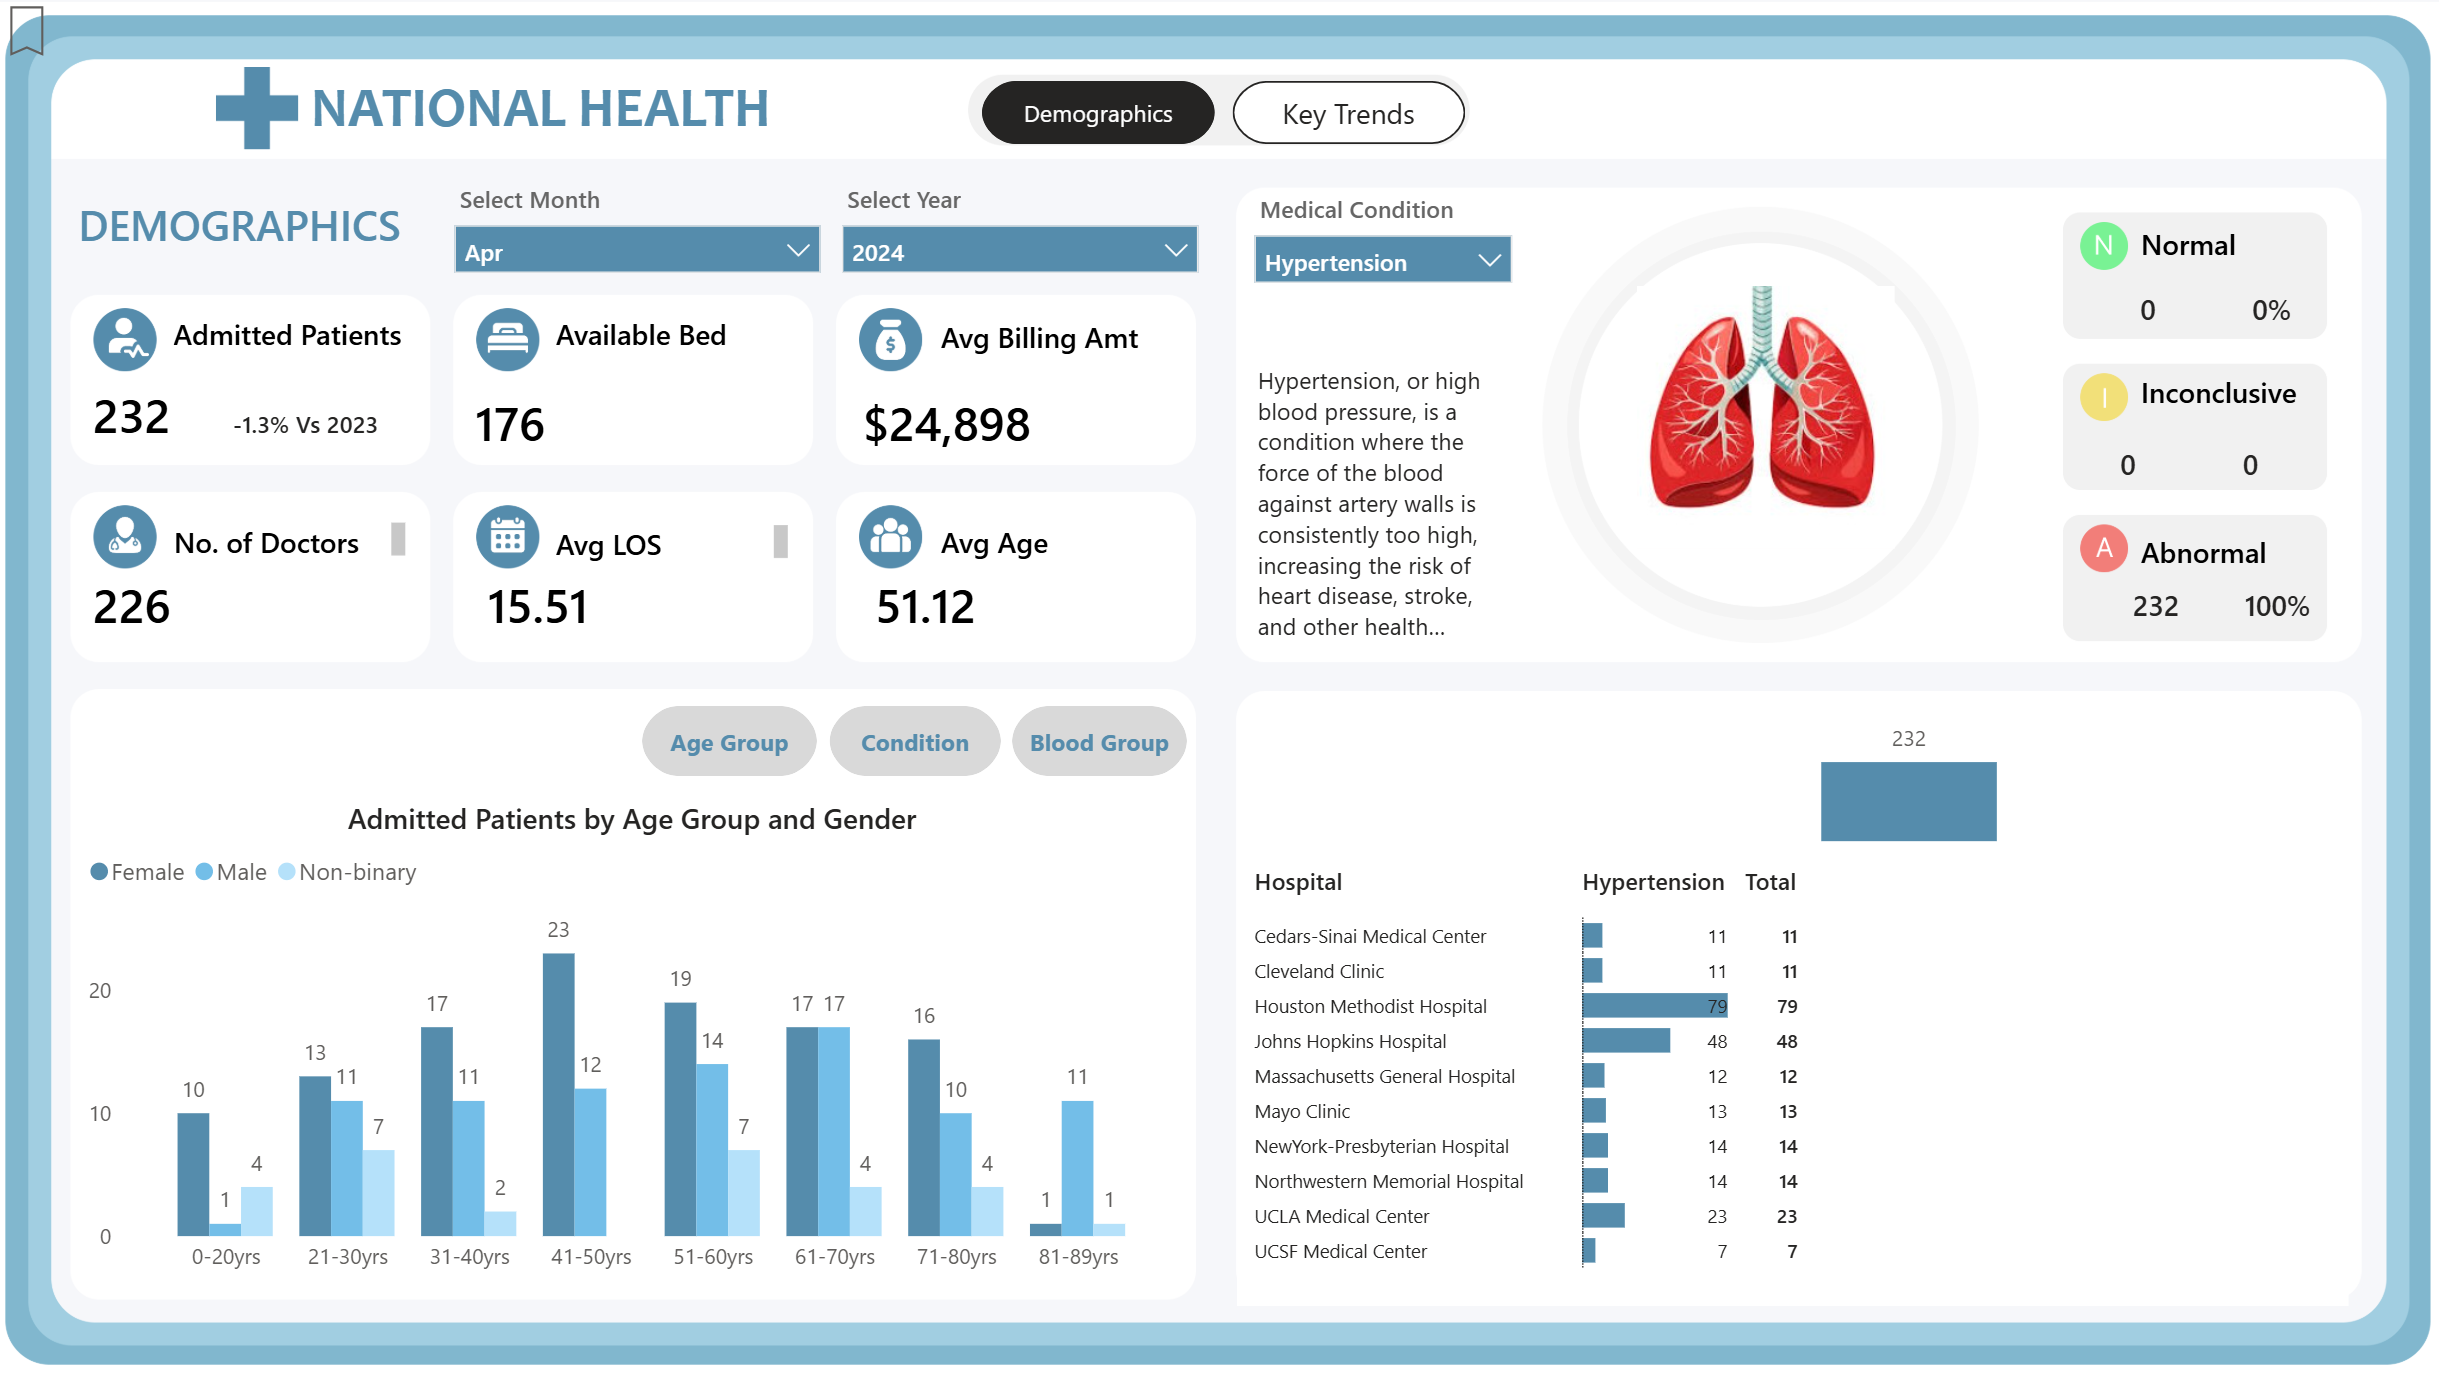

This screenshot's page, from the dashboard's own definition file:
{"tool":"powerbi","page":{"name":"Demographics","canvas":[1400,800],"ordinal":0},"visuals":[{"type":"textbox","box":[177,38,291,58],"z":0},{"type":"textbox","box":[44.3,108.6,210,60],"z":1000},{"type":"slicer","fields":{"Values":["Date.Year"]},"box":[476.4,100.9,223.6,76.4],"z":2000},{"type":"slicer","fields":{"Values":["Date.Month"]},"box":[253.6,100.9,229.1,59.1],"z":3000},{"type":"cardVisual","fields":{"Data":["Count(Hospital Data.Patient ID)"]},"box":[29,204,179,67],"z":4000},{"type":"textbox","box":[98.9,177.2,143.3,31.1],"z":5000},{"type":"cardVisual","fields":{"Data":["Count(Hospital Data.Room Number)"]},"box":[247,208,139,67],"z":6000},{"type":"textbox","box":[317,177,143,31],"z":7000},{"type":"cardVisual","fields":{"Data":["Avg(Hospital Data.Billing Amount)"]},"box":[468,208,195,67],"z":8000},{"type":"textbox","box":[537,178,262,31],"z":9000},{"type":"cardVisual","fields":{"Data":["Avg(Hospital Data.Age)"]},"box":[476,313,195,67],"z":10000},{"type":"cardVisual","fields":{"Data":["Count(Hospital Data.Doctor)"]},"box":[29,313,195,67],"z":11000},{"type":"slicer","fields":{"Values":["Hospital Data.Medical Condition"]},"box":[711.4,107.1,167.1,77.1],"z":12000},{"type":"cardVisual","fields":{"Data":["Avg(Hospital Data.Length of Stay_LOS)"]},"box":[253.8,312.5,195,67.5],"z":13000},{"type":"textbox","box":[98.8,295,142.5,30],"z":14000},{"type":"textbox","box":[317.5,297.5,142.5,30],"z":15000},{"type":"textbox","box":[537.5,295,133.8,72.5],"z":16000},{"type":"actionButton","box":[0,0,100,40],"z":17000},{"type":"clusteredColumnChart","title":"Admitted Patients by Age Group and Gender","fields":{"Category":["Hospital Data.Patient Volume"],"Series":["Hospital Data.Gender"],"Y":["Hospital Data.Total number of admitted Patients"]},"box":[50,458.6,631.4,280],"z":20000},{"type":"actionButton","title":"Age Group","box":[370.9,405.9,100,40],"z":23000},{"type":"actionButton","title":"Age Group","box":[478.9,405.9,98,40],"z":24000},{"type":"actionButton","title":"Age Group","box":[582.9,405.9,100,40],"z":25000},{"type":"cardVisual","fields":{"Data":["Hospital Data.Selected Description"]},"box":[693.8,150,201.2,276.2],"z":26000},{"type":"image","box":[930,166.2,167.5,150],"z":27000},{"type":"cardVisual","fields":{"Data":["Hospital Data.Abnormal Test Patient","Divide(Hospital Data.Abnormal Test Patient, ScopedEval(Hospital Data.Abnormal Test Patient, []))"]},"box":[1194.3,318.6,160,56.7],"z":28000},{"type":"cardVisual","fields":{"Data":["Hospital Data.Inconclusive Test Patient","Divide(Hospital Data.Inconclusive Test Patient, ScopedEval(Hospital Data.Inconclusive Test Patient, []))"]},"box":[1187.8,215.6,172.2,101.1],"z":29000},{"type":"cardVisual","fields":{"Data":["CountNonNull(Hospital Data.Normal Test Patient)","Sum(Hospital Data.Normal Test Patient)"]},"box":[1198.9,126.7,161.1,101.1],"z":30000},{"type":"textbox","box":[1223.3,125.6,83.3,34.4],"z":31000},{"type":"textbox","box":[1223.3,210,138.9,34.4],"z":32000},{"type":"textbox","box":[1223.3,301.1,138.9,34.4],"z":33000},{"type":"pivotTable","fields":{"Rows":["Hospital Data.Hospital"],"Columns":["Hospital Data.Medical Condition"],"Values":["Hospital Data.Total number of admitted Patients"]},"box":[711.7,488.3,635,260],"z":34000},{"type":"columnChart","fields":{"Y":["Hospital Data.Total number of admitted Patients"],"Category":["Hospital Data.Medical Condition"]},"box":[906.2,400,386.2,88.8],"z":35000},{"type":"cardVisual","fields":{"Data":["Hospital Data.Growth Label"]},"box":[108.9,214.4,167.8,58.9],"z":36000},{"type":"pageNavigator","box":[565,48.8,276.2,36.2],"z":37000}]}

Visuals, with their boxes in screenshot pixels (x1, y1, x2, y2), scaled from the page's 1400x800 canvas onto the 2439x1378 screenshot:
textbox: bbox=[308, 65, 815, 165]
textbox: bbox=[77, 187, 443, 290]
slicer - Date.Year: bbox=[830, 174, 1220, 305]
slicer - Date.Month: bbox=[442, 174, 841, 276]
cardVisual - Count(Hospital Data.Patient ID): bbox=[51, 351, 362, 467]
textbox: bbox=[172, 305, 422, 359]
cardVisual - Count(Hospital Data.Room Number): bbox=[430, 358, 672, 474]
textbox: bbox=[552, 305, 801, 358]
cardVisual - Avg(Hospital Data.Billing Amount): bbox=[815, 358, 1155, 474]
textbox: bbox=[936, 307, 1392, 360]
cardVisual - Avg(Hospital Data.Age): bbox=[829, 539, 1169, 655]
cardVisual - Count(Hospital Data.Doctor): bbox=[51, 539, 390, 655]
slicer - Hospital Data.Medical Condition: bbox=[1239, 184, 1530, 317]
cardVisual - Avg(Hospital Data.Length of Stay_LOS): bbox=[442, 538, 782, 655]
textbox: bbox=[172, 508, 420, 560]
textbox: bbox=[553, 512, 801, 564]
textbox: bbox=[936, 508, 1170, 633]
actionButton: bbox=[0, 0, 174, 69]
"Admitted Patients by Age Group and Gender" clusteredColumnChart: bbox=[87, 790, 1187, 1272]
"Age Group" actionButton: bbox=[646, 699, 820, 768]
"Age Group" actionButton: bbox=[834, 699, 1005, 768]
"Age Group" actionButton: bbox=[1015, 699, 1190, 768]
cardVisual - Hospital Data.Selected Description: bbox=[1209, 258, 1559, 734]
image: bbox=[1620, 286, 1912, 545]
cardVisual - Hospital Data.Abnormal Test Patient x Divide(Hospital Data.Abnormal Test Patient, ScopedEval(Hospital Data.Abnormal Test Patient, [])): bbox=[2081, 549, 2359, 646]
cardVisual - Hospital Data.Inconclusive Test Patient x Divide(Hospital Data.Inconclusive Test Patient, ScopedEval(Hospital Data.Inconclusive Test Patient, [])): bbox=[2069, 371, 2369, 546]
cardVisual - CountNonNull(Hospital Data.Normal Test Patient) x Sum(Hospital Data.Normal Test Patient): bbox=[2089, 218, 2369, 392]
textbox: bbox=[2131, 216, 2276, 276]
textbox: bbox=[2131, 362, 2373, 421]
textbox: bbox=[2131, 519, 2373, 578]
pivotTable - Hospital Data.Hospital x Hospital Data.Medical Condition: bbox=[1240, 841, 2346, 1289]
columnChart - Hospital Data.Total number of admitted Patients x Hospital Data.Medical Condition: bbox=[1579, 689, 2252, 842]
cardVisual - Hospital Data.Growth Label: bbox=[190, 369, 482, 471]
pageNavigator: bbox=[984, 84, 1465, 146]
